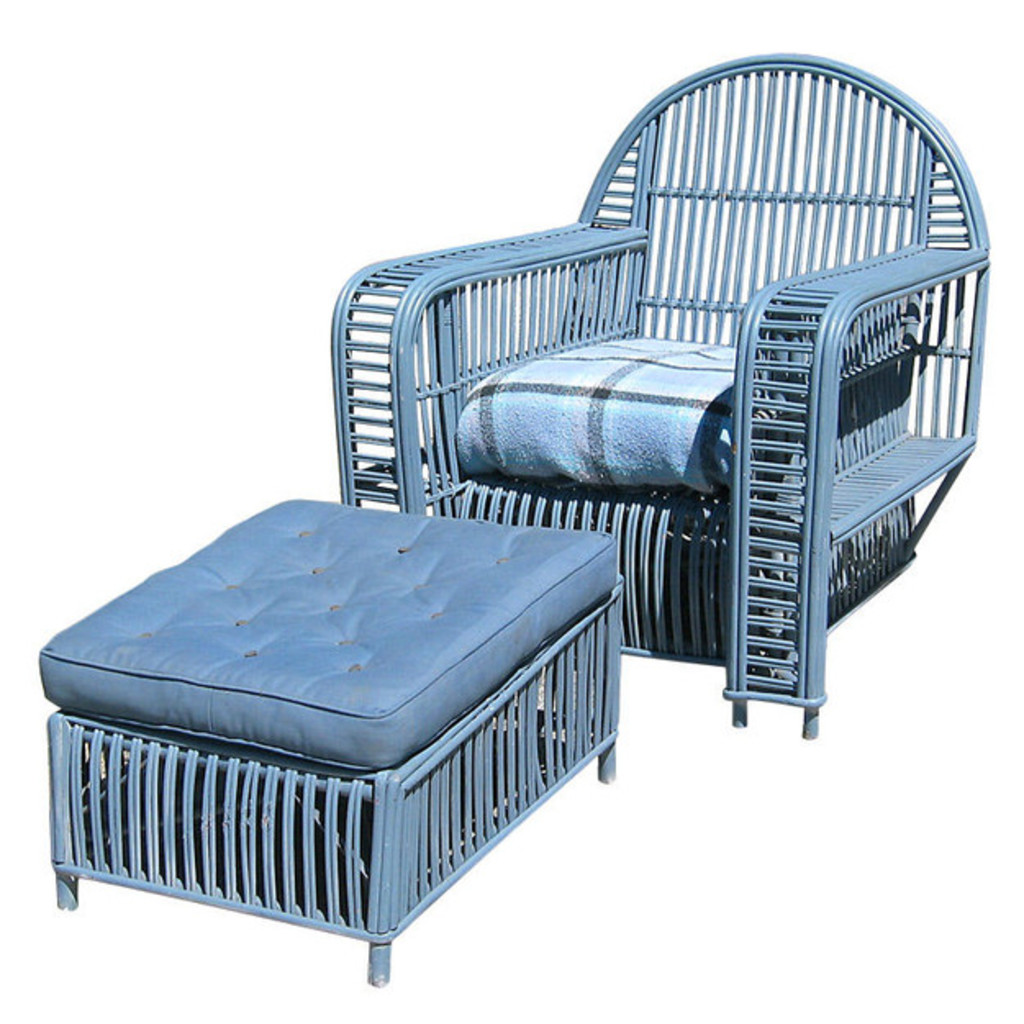Chair: (359, 111, 993, 739)
